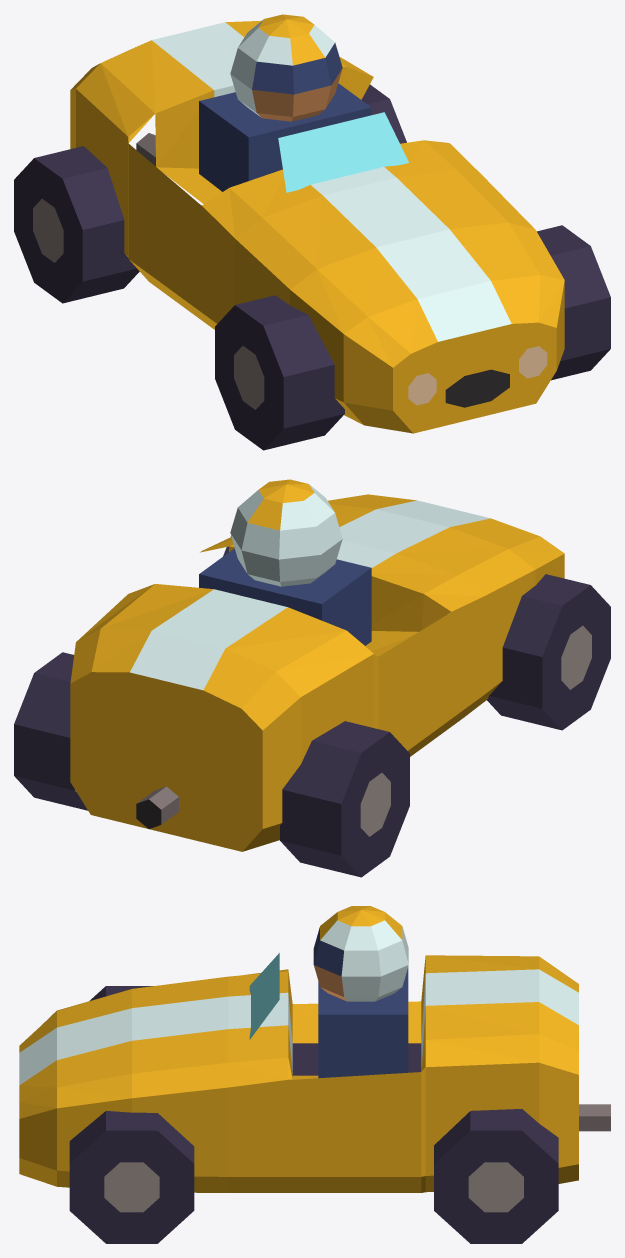
File: racer_gold.glb
3 renders of one model, top to bottom at view 1: azimuth 30°, elevation 25°; view 2: azimuth 150°, elevation 25°; view 3: azimuth 270°, elevation 25°, orthographic. The views are drawn at different scales.
Parts seen in each view (by area): view 1: Racer; view 2: Racer; view 3: Racer.
Part boxes in pixels (x1,y1,x2,y2): Racer: (14, 14, 610, 450); Racer: (14, 479, 610, 877); Racer: (19, 906, 610, 1243).
Size of the model in its own units: 1.6 by 1.35 by 2.78.
